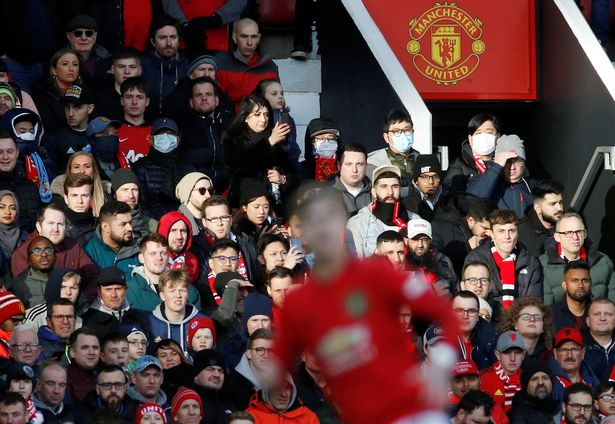with_mask: (390, 119, 413, 153), (153, 127, 177, 157), (472, 122, 493, 154), (96, 127, 119, 155), (316, 130, 337, 157), (19, 115, 33, 145)
without_mask: (499, 335, 525, 377), (565, 223, 591, 257), (120, 90, 148, 119), (103, 369, 123, 409), (65, 96, 89, 127), (98, 281, 125, 308), (41, 376, 65, 406), (570, 390, 591, 424), (193, 83, 215, 115), (254, 337, 275, 370), (375, 178, 396, 210), (109, 342, 132, 371), (72, 184, 92, 217), (271, 277, 293, 307), (457, 405, 491, 424), (42, 210, 64, 239), (530, 373, 555, 398), (568, 272, 591, 299), (217, 247, 237, 278), (560, 339, 582, 367), (73, 23, 94, 52), (207, 210, 227, 240), (53, 307, 73, 336), (467, 215, 491, 239), (418, 166, 441, 191), (2, 306, 21, 336), (497, 219, 515, 250), (166, 282, 189, 306), (249, 196, 271, 221), (16, 335, 37, 361), (122, 179, 139, 211), (457, 365, 474, 397), (345, 151, 363, 181), (116, 58, 135, 86), (32, 242, 53, 267), (415, 231, 433, 260), (193, 181, 213, 207), (467, 267, 487, 293), (594, 305, 615, 329), (269, 244, 289, 269), (600, 384, 615, 417), (238, 30, 257, 56), (162, 29, 179, 58), (247, 313, 268, 336), (499, 156, 519, 180), (253, 105, 270, 133), (389, 247, 406, 275), (145, 363, 161, 392), (1, 139, 12, 181), (3, 400, 22, 424), (170, 222, 188, 247), (150, 243, 164, 275), (115, 219, 135, 241), (80, 340, 99, 363), (547, 193, 562, 222), (195, 326, 213, 349), (182, 401, 200, 424), (271, 389, 291, 409), (13, 376, 31, 398), (523, 311, 542, 331), (206, 362, 221, 387), (457, 306, 473, 329), (74, 158, 93, 177), (59, 277, 75, 299), (1, 198, 15, 222), (61, 59, 78, 78), (270, 87, 284, 108), (142, 414, 164, 424)
